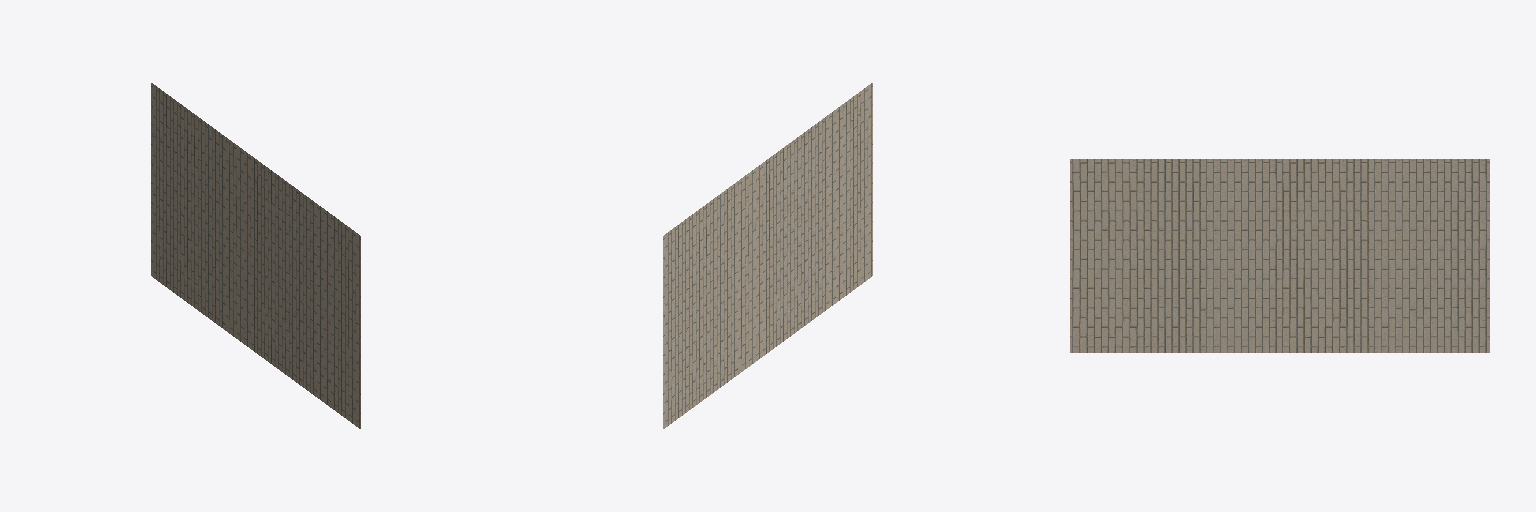
3 renders of one model, left to right at view 1: azimuth 30°, elevation 25°; view 2: azimuth 150°, elevation 25°; view 3: azimuth 270°, elevation 25°, orthographic.
Parts seen in each view (by area): view 1: Plane001; view 2: Plane001; view 3: Plane001.
Boxes of the visible parts, <box> form: Plane001: <box>151,83,360,428</box>; Plane001: <box>663,83,872,428</box>; Plane001: <box>1070,159,1489,352</box>.
Size of the model in its own units: 0 by 102 by 200.
1 materials, 1 textured.